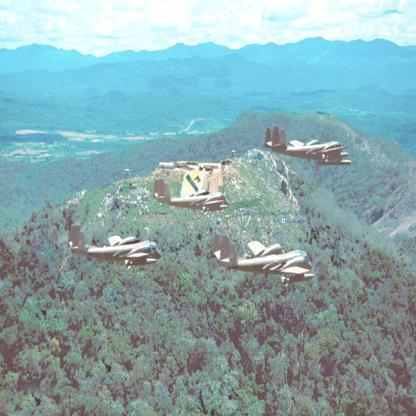aircraft: (213, 234, 316, 281), (69, 225, 160, 265), (263, 124, 352, 164), (153, 178, 228, 212)
